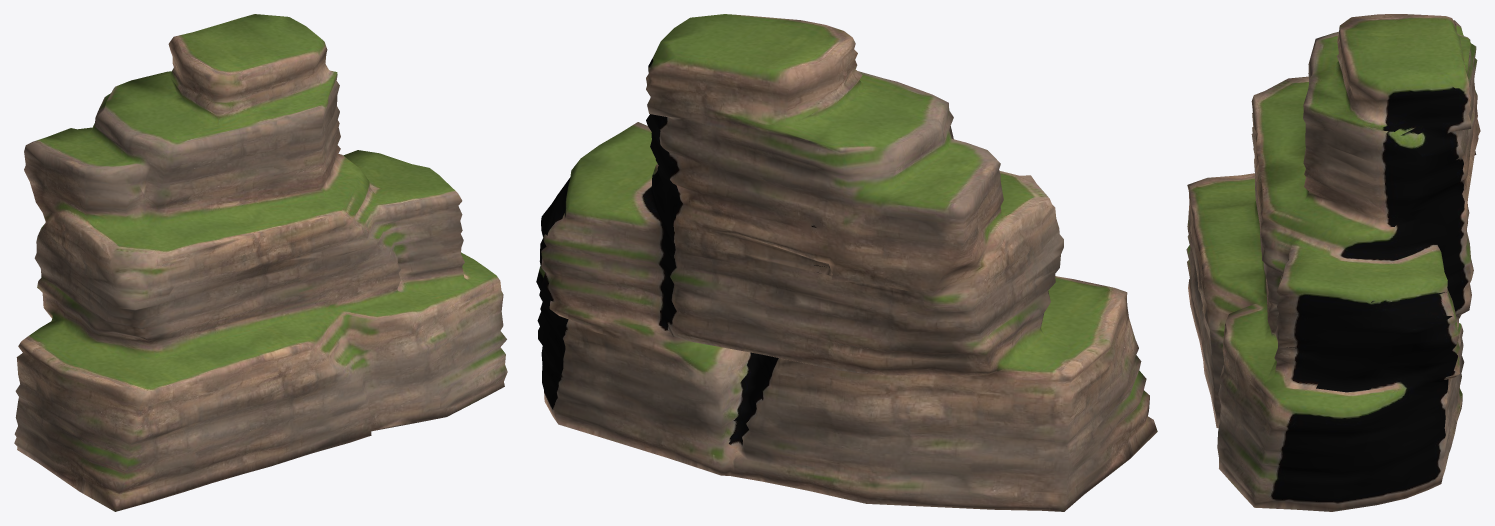
The model's file is klippe-1.glb.
3 renders of one model, left to right at view 1: azimuth 30°, elevation 25°; view 2: azimuth 150°, elevation 25°; view 3: azimuth 270°, elevation 25°, orthographic. The views are drawn at different scales.
Visible parts, largest first — view 1: klippe-1; view 2: klippe-1; view 3: klippe-1.
Part boxes in pixels (x1,y1,x2,y2): klippe-1: [14, 14, 507, 511]; klippe-1: [536, 14, 1157, 511]; klippe-1: [1186, 14, 1480, 511].
Size of the model in its own units: 12.58 by 9.19 by 6.67.
1 material, 1 textured.
